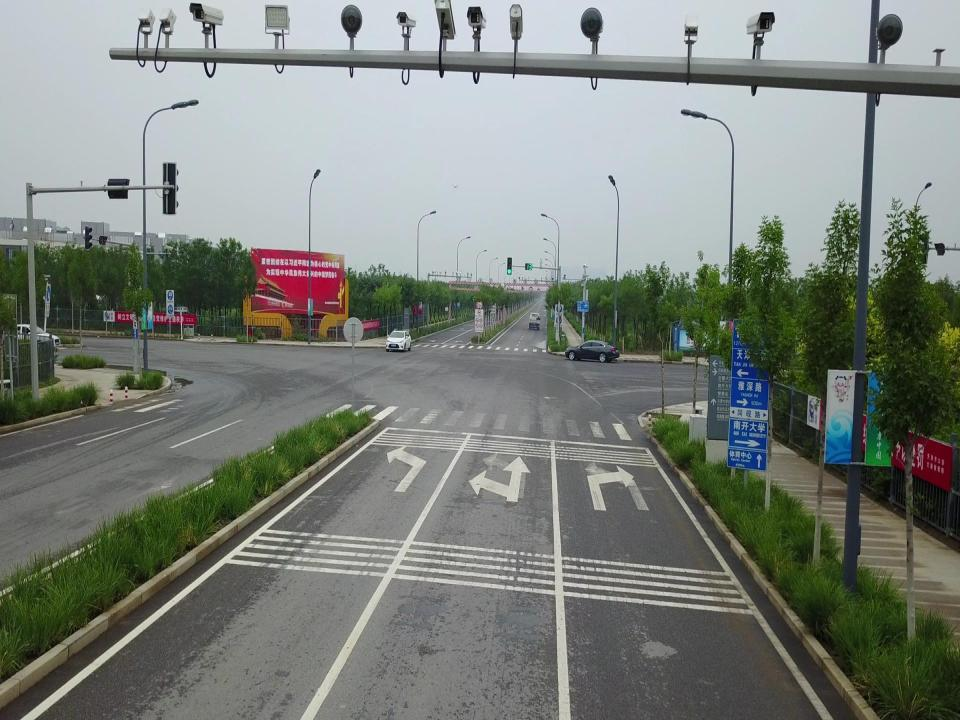car: (2, 324, 60, 351), (565, 339, 619, 362), (386, 331, 412, 351)
truck: (528, 312, 540, 330)
